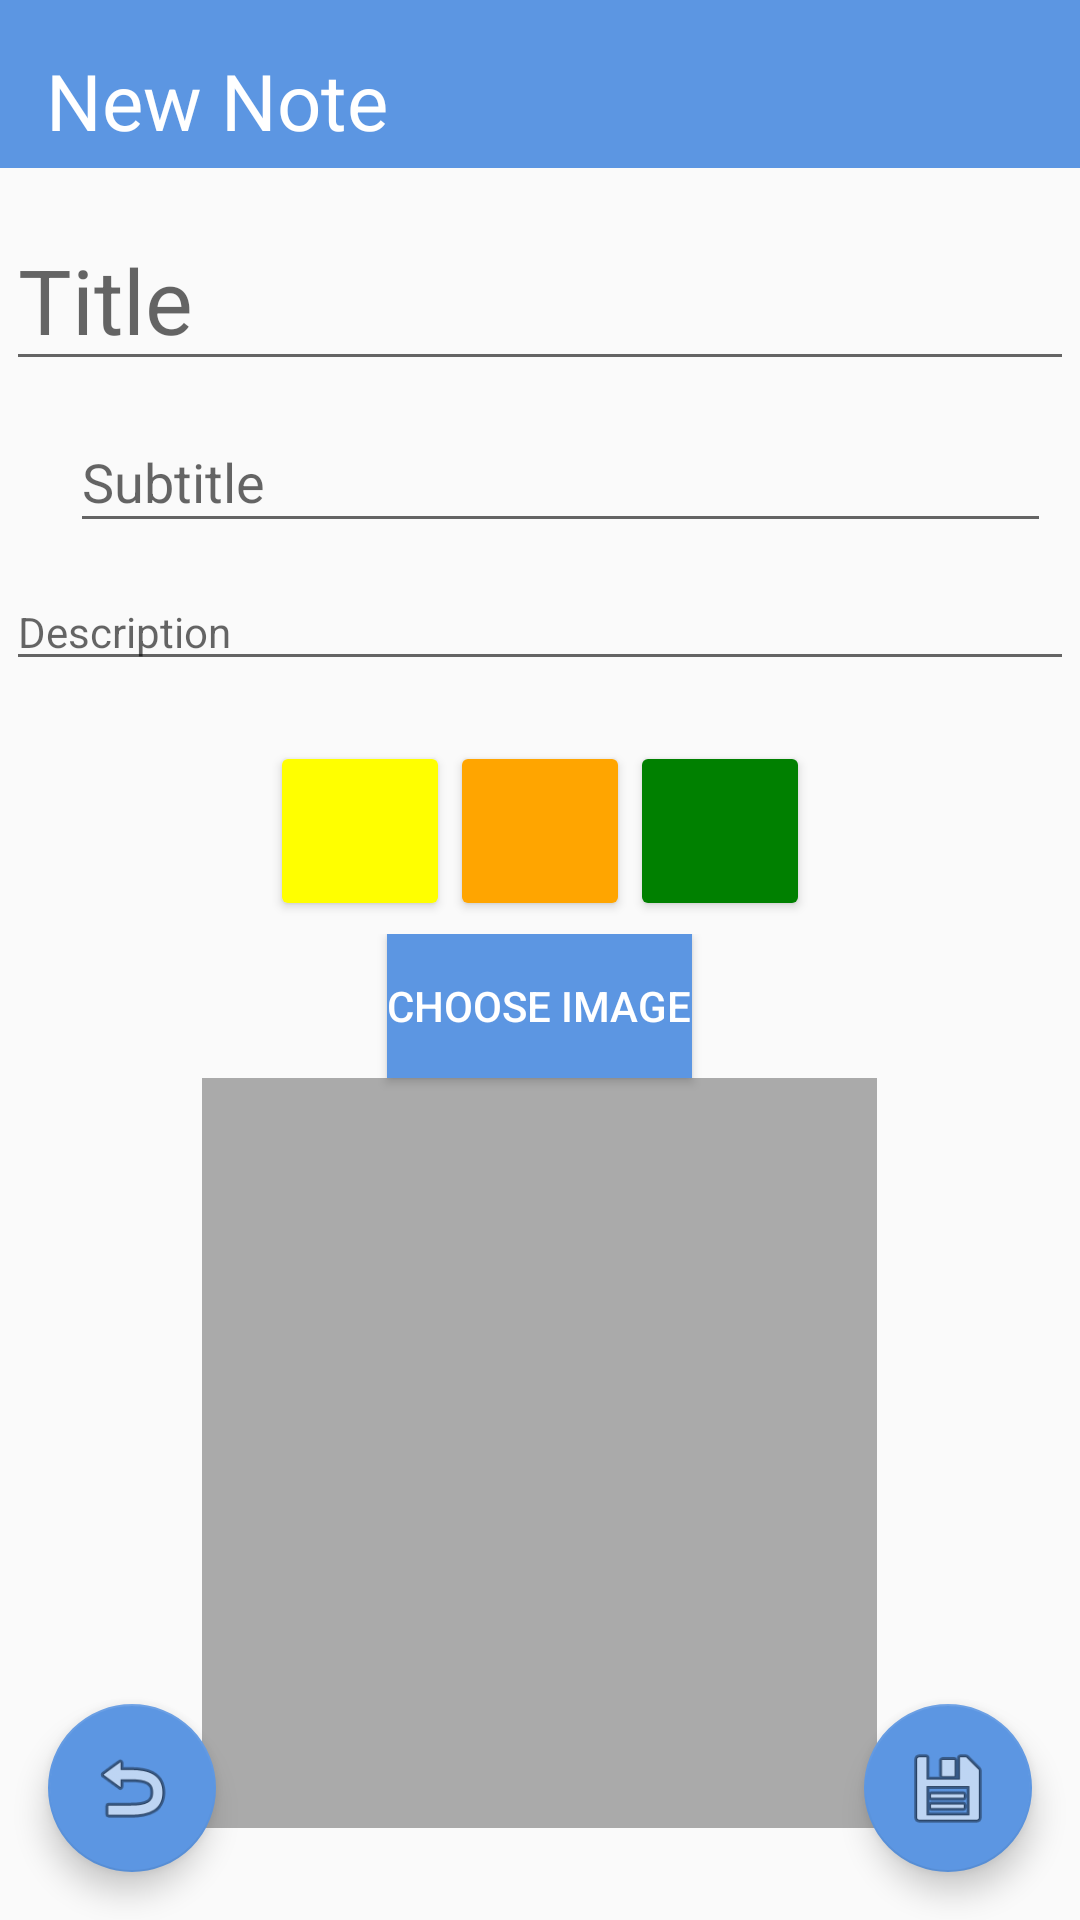

Icon click points for this 1080 × 1920 phone screenshot, format (x,y):
revert: (132,1788)
save: (948,1788)
